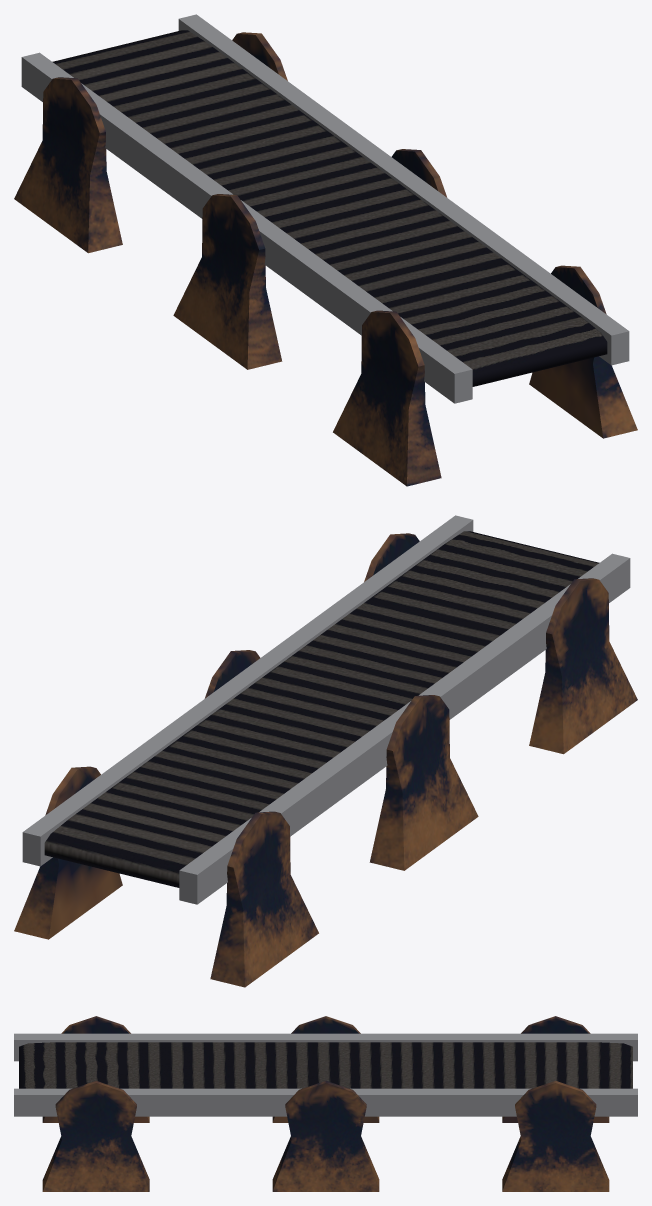
Rendered from Conveyor3.fbx.
The picture shows the model from 3 angles, top to bottom: view 1: azimuth 30°, elevation 25°; view 2: azimuth 150°, elevation 25°; view 3: azimuth 270°, elevation 25°; orthographic projection. The views are drawn at different scales.
Visible parts, largest first — view 1: polySurface8; view 2: polySurface8; view 3: polySurface8.
Part boxes in pixels (x1,y1,x2,y2): polySurface8: (14, 14, 637, 486); polySurface8: (14, 515, 637, 987); polySurface8: (14, 1016, 637, 1191).
Bounding box in the file's own units: 1.51 × 0.8806 × 4.89.
